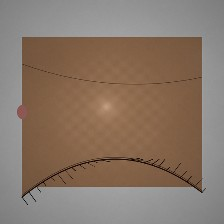corneal_ulcer: (88, 94, 128, 127)
